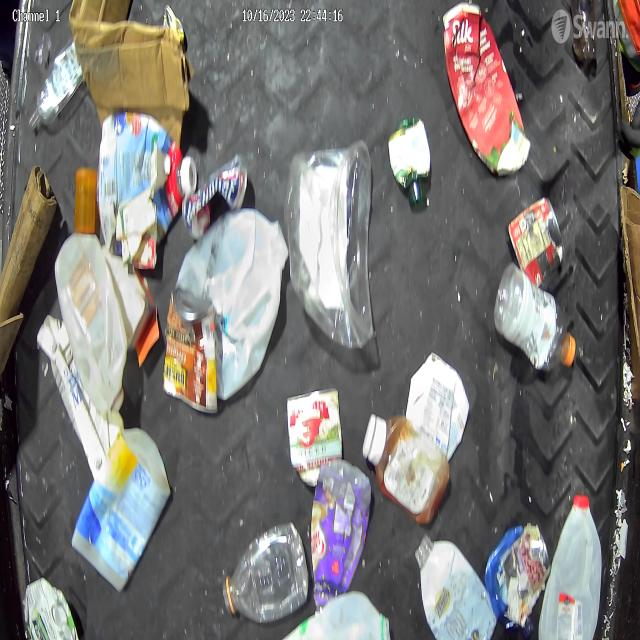can: (162, 293, 215, 410), (286, 386, 344, 488), (181, 153, 248, 240), (506, 194, 564, 289), (389, 118, 432, 209)
milk_jug: (172, 206, 285, 402), (37, 314, 125, 480), (54, 231, 128, 407), (543, 492, 603, 640), (298, 590, 391, 640)
non_white_jug: (446, 3, 528, 178), (24, 577, 80, 640)
plastic_bottle: (494, 265, 578, 377), (223, 522, 308, 622), (33, 32, 84, 128)
